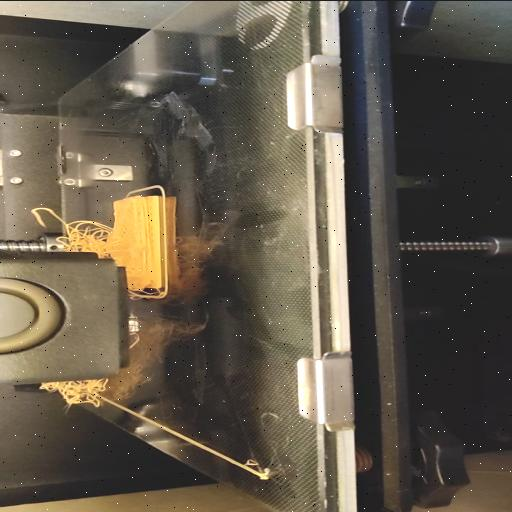spaghetti: (29, 206, 120, 254), (40, 378, 112, 406)
